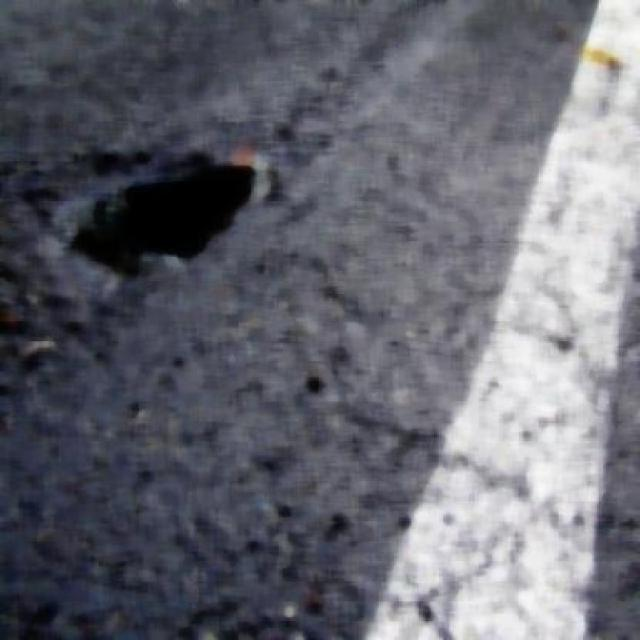pothole: (17, 140, 250, 303)
